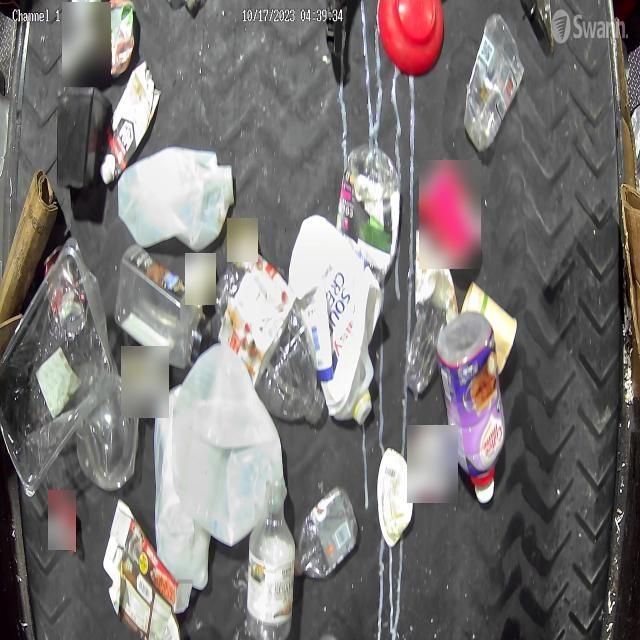milk_jug: (162, 346, 286, 546), (288, 212, 382, 424), (154, 384, 212, 613), (114, 146, 234, 250)
plastic_bottle: (216, 264, 325, 421), (406, 226, 460, 402), (246, 512, 298, 639), (296, 484, 360, 580)
